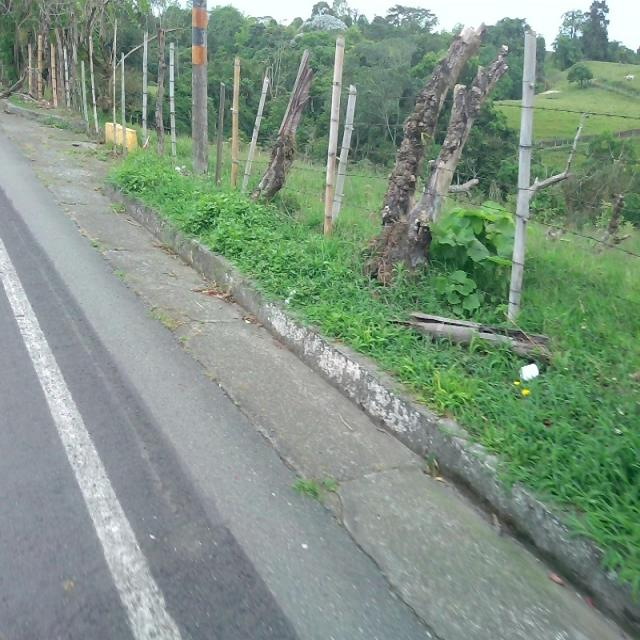DITCH: (1, 97, 638, 638)
